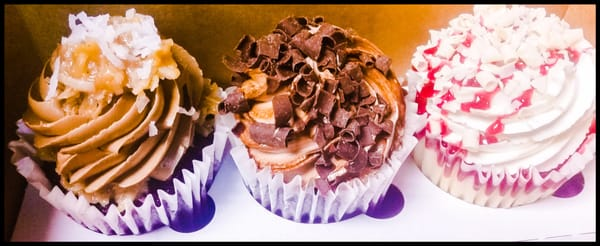salad: (218, 14, 408, 225), (405, 4, 595, 210)
sushi: (19, 10, 226, 231)
